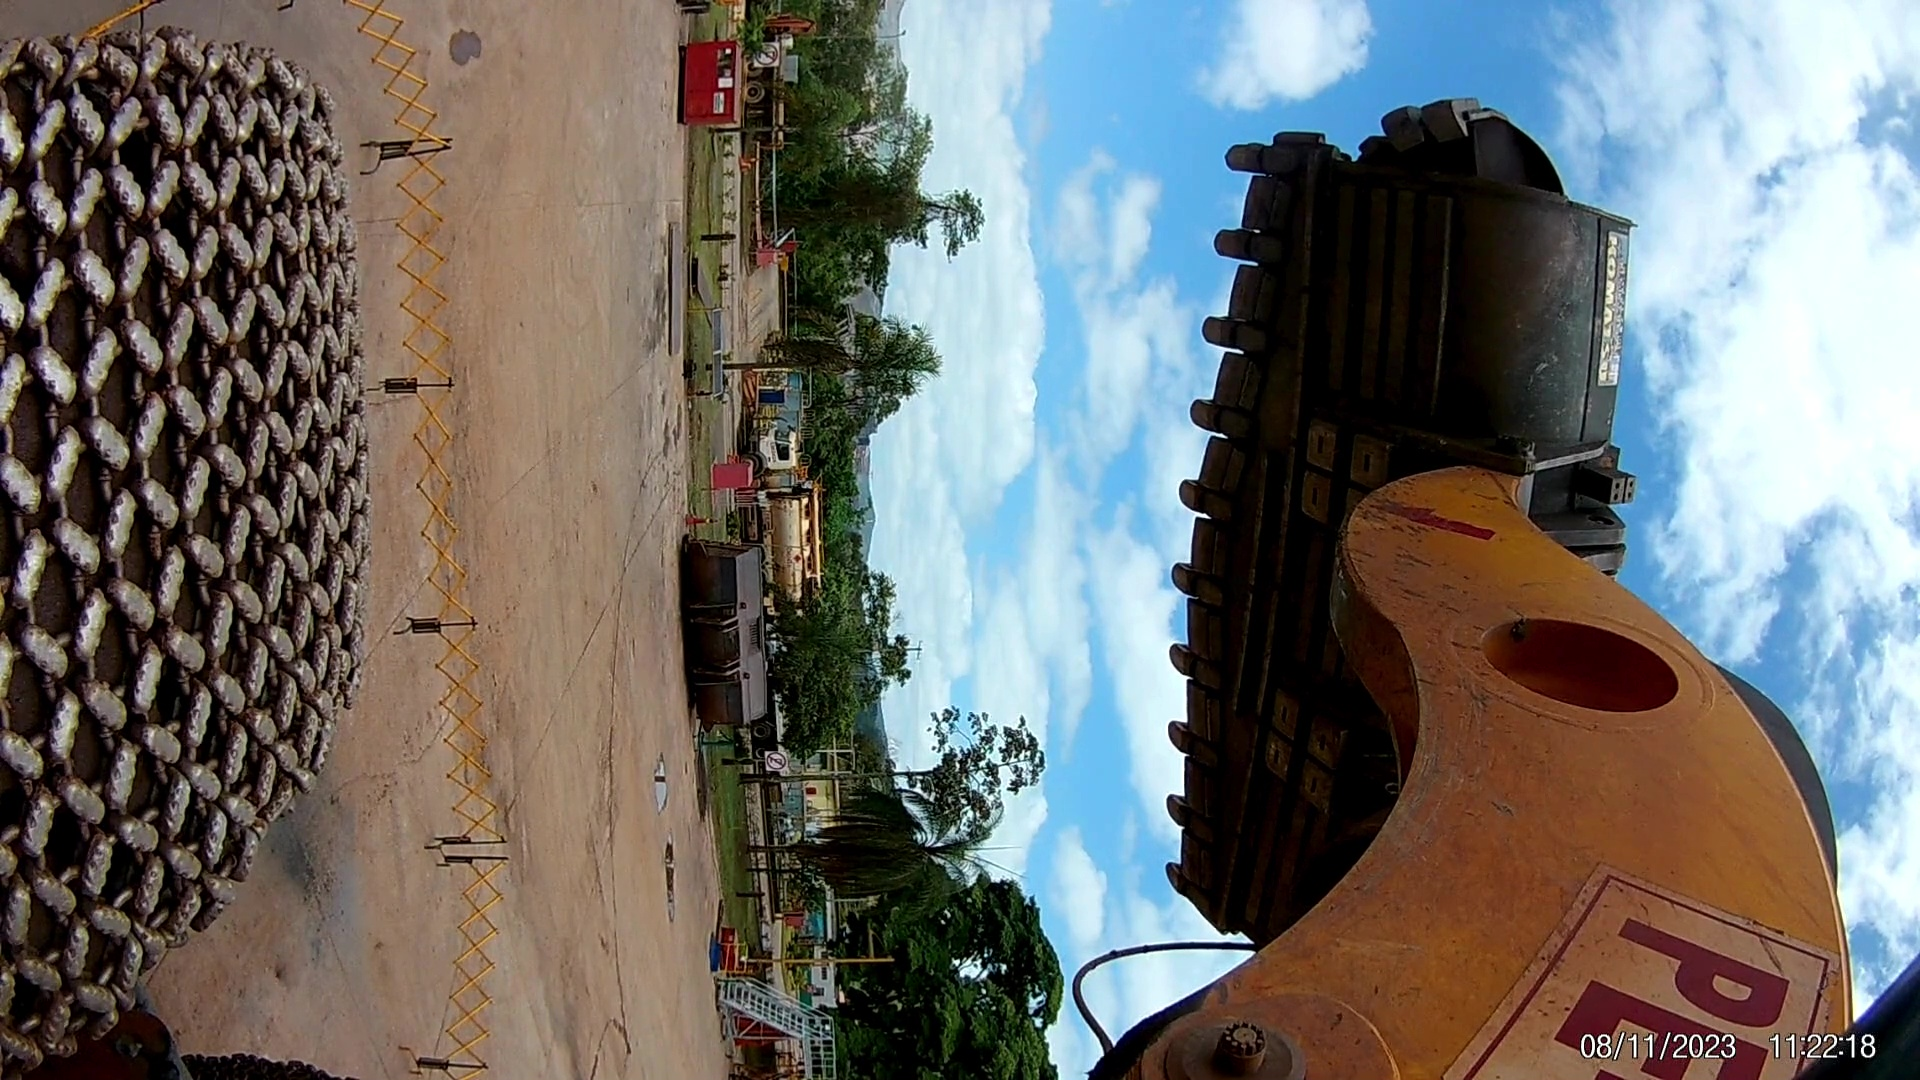FPS: (1139, 626, 1226, 688), (1187, 393, 1261, 455), (1149, 562, 1230, 615), (1163, 700, 1220, 771), (1149, 793, 1222, 845), (1211, 225, 1298, 266), (1180, 313, 1273, 349), (1175, 469, 1237, 522), (1154, 855, 1204, 905), (1213, 150, 1305, 167)
